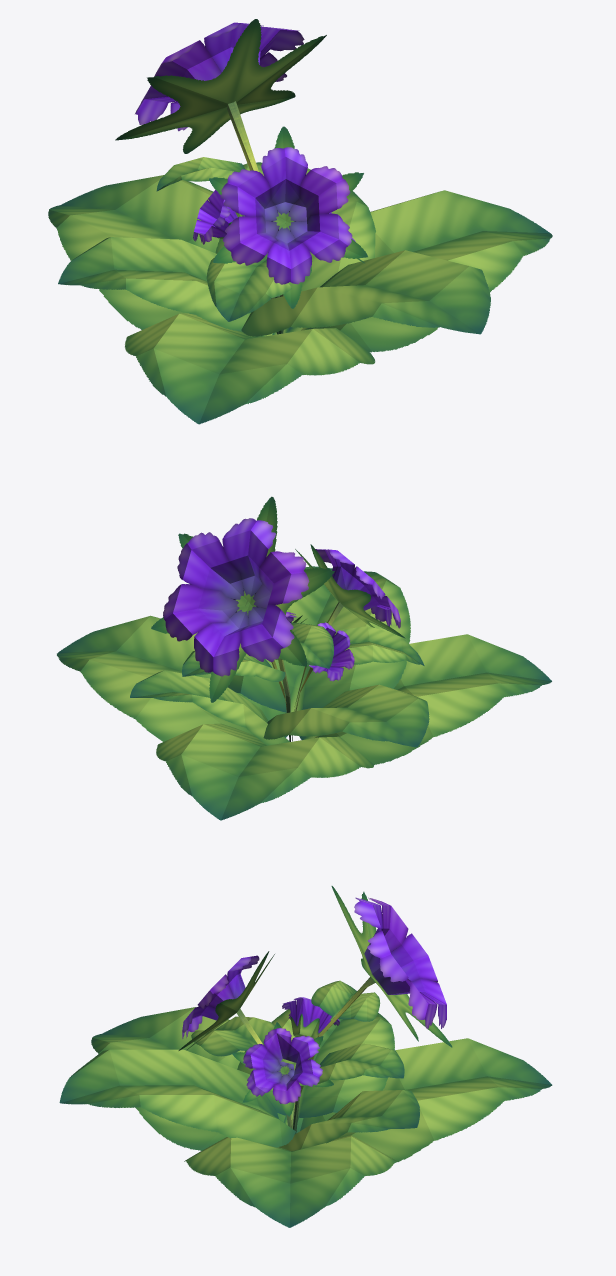
Rendered from VEG0310005.fbx.
The picture shows the model from 3 angles, top to bottom: view 1: azimuth 30°, elevation 25°; view 2: azimuth 150°, elevation 25°; view 3: azimuth 270°, elevation 25°; orthographic projection. The views are drawn at different scales.
Parts seen in each view (by area): view 1: smVEG0310005; view 2: smVEG0310005; view 3: smVEG0310005.
Part boxes in pixels (x1,y1,x2,y2): smVEG0310005: (48,19,552,424); smVEG0310005: (57,496,551,820); smVEG0310005: (59,886,552,1227).
Size of the model in its own units: 88.3 by 52.08 by 94.12.
1 material, 1 textured.
